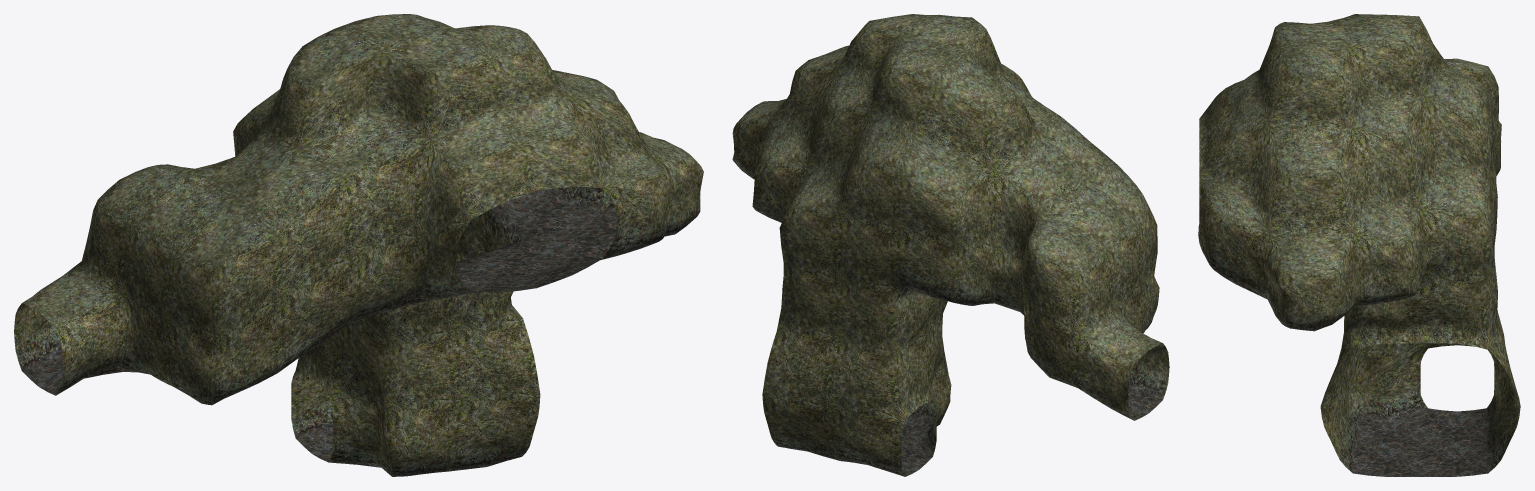
The model's file is thm_all_cave_s03_damprock_r22_r22.fbx.
3 views of the same model, side by side, from view 1: azimuth 30°, elevation 25°; view 2: azimuth 150°, elevation 25°; view 3: azimuth 270°, elevation 25° (orthographic). The views are drawn at different scales.
Visible parts, largest first — view 1: mesh_node; view 2: mesh_node; view 3: mesh_node.
Part boxes in pixels (<box>): mesh_node: <box>14,14,703,476</box>; mesh_node: <box>732,14,1169,476</box>; mesh_node: <box>1198,14,1520,476</box>.
Bounding box in the file's own units: 63.36 × 48.59 × 34.97.
